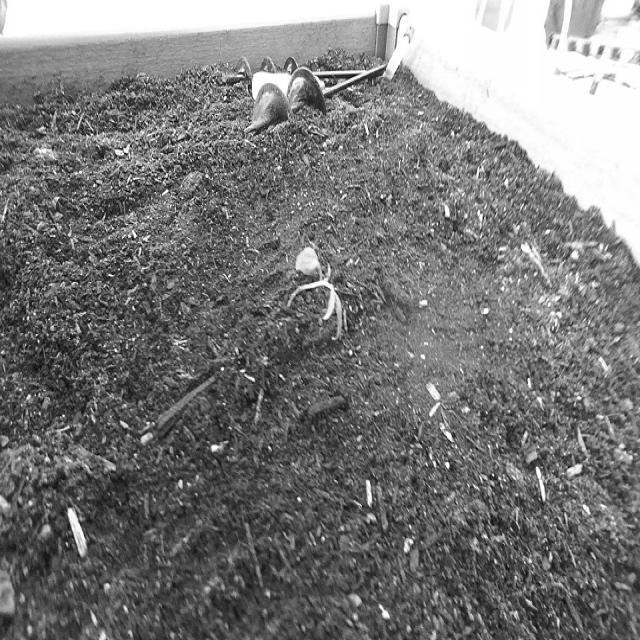Unhealthy: (275, 224, 360, 350)
